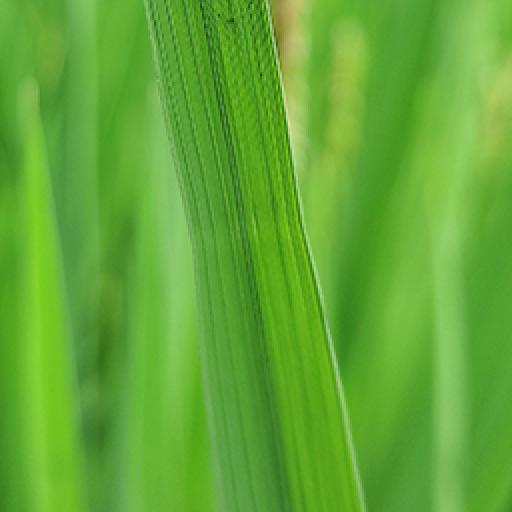Healthy Leaf: (142, 4, 364, 512)
